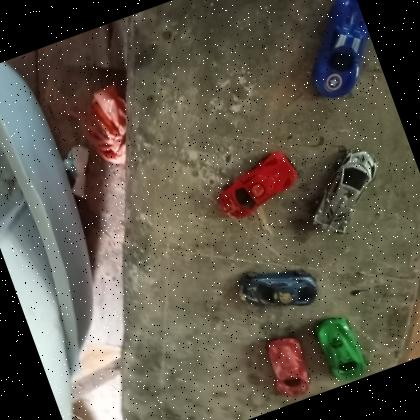Car: (284, 0, 387, 106), (293, 142, 400, 244), (206, 144, 308, 226), (229, 250, 325, 328), (310, 310, 373, 388), (258, 330, 320, 404)
